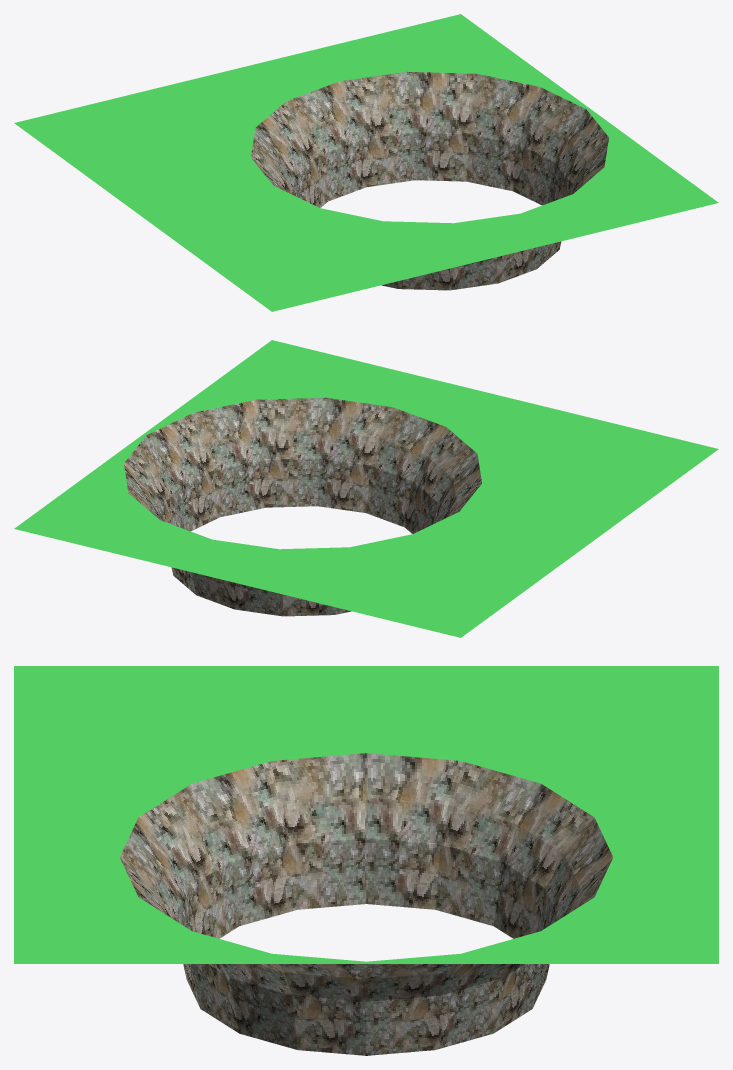
Rendered from level_main_uv_2.fbx.
3 views of the same model, one above another, from view 1: azimuth 30°, elevation 25°; view 2: azimuth 150°, elevation 25°; view 3: azimuth 270°, elevation 25° (orthographic). The views are drawn at different scales.
Parts seen in each view (by area): view 1: Plane; view 2: Plane; view 3: Plane.
Part boxes in pixels (x1,y1,x2,y2): Plane: (14,14,718,311); Plane: (14,340,718,637); Plane: (14,666,718,1055).
Size of the model in its own units: 5000 by 946 by 5000.
